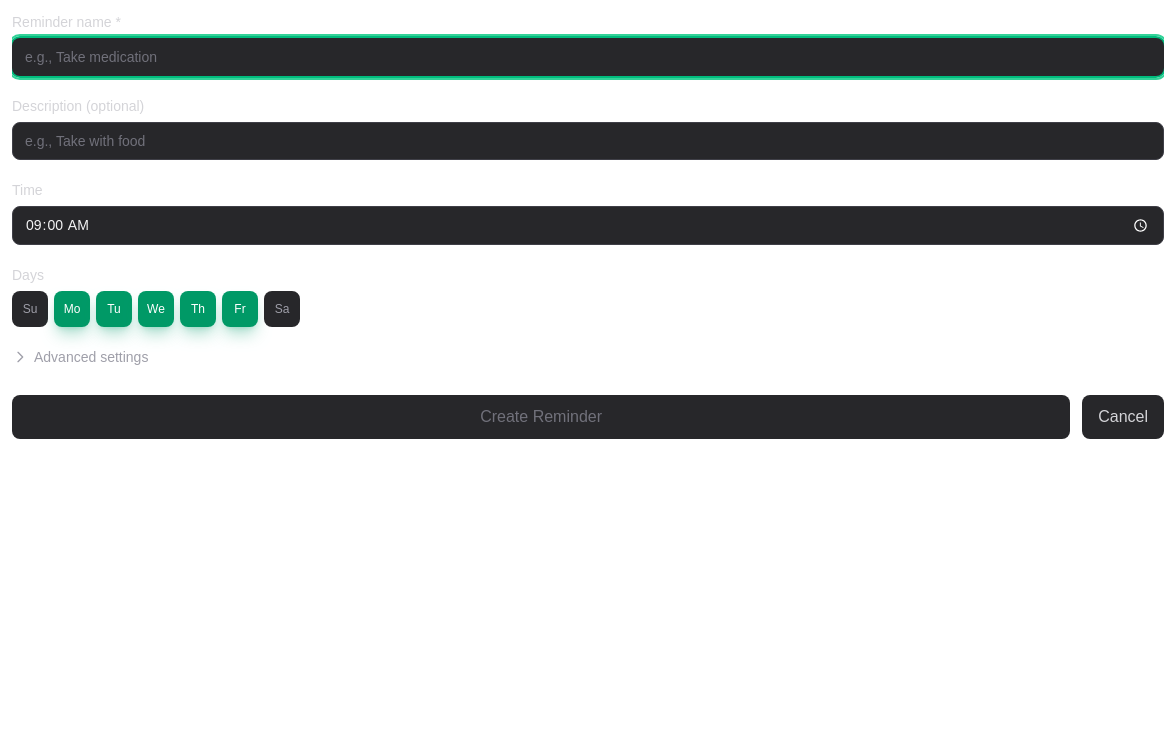
it: ReminderForm Component › Advanced Settings › should show advanced settings when toggle clicked
Step 1. Click the button "Advanced settings" → coordinates (80, 357), box [12,347,148,367]
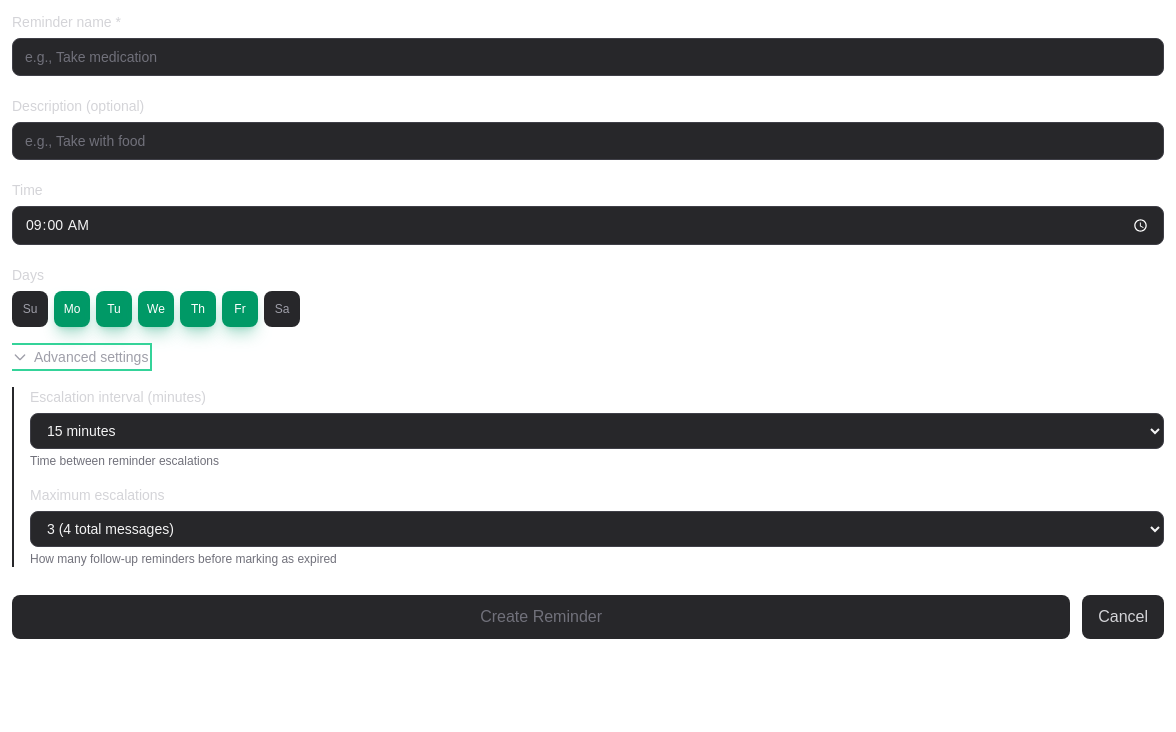
Check: the dropdown labelled "Escalation interval (minutes)" is shown, box [30,413,1164,449]
Check: the dropdown labelled "Maximum escalations" is shown, box [30,511,1164,547]
